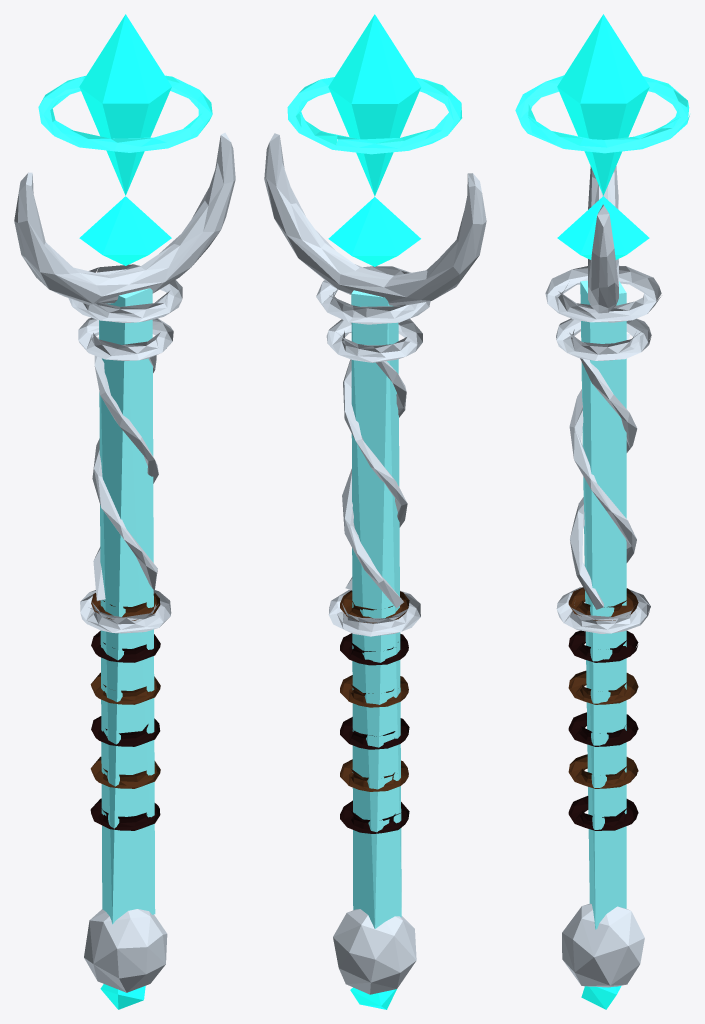
File: wand_2.glb
3 views of the same model, side by side, from view 1: azimuth 30°, elevation 25°; view 2: azimuth 150°, elevation 25°; view 3: azimuth 270°, elevation 25° (orthographic).
Parts seen in each view (by area): view 1: part_01, part_15, part_16, part_11, part_18, part_17, part_10, part_09, part_08, part_13, part_14, part_02 (+6 smaller); view 2: part_01, part_15, part_16, part_11, part_18, part_17, part_10, part_09, part_13, part_08, part_14, part_02 (+6 smaller); view 3: part_01, part_16, part_11, part_18, part_10, part_15, part_17, part_09, part_14, part_13, part_08, part_02 (+6 smaller).
Part boxes in pixels (x1=…): part_01: x1=99, y1=288, x2=155, y2=924; part_15: x1=14, y1=132, x2=235, y2=304; part_16: x1=79, y1=14, x2=171, y2=195; part_11: x1=84, y1=909, x2=167, y2=992; part_18: x1=38, y1=75, x2=212, y2=152; part_17: x1=79, y1=196, x2=171, y2=265; part_10: x1=68, y1=264, x2=182, y2=322; part_09: x1=78, y1=317, x2=173, y2=360; part_08: x1=80, y1=590, x2=171, y2=633; part_13: x1=93, y1=337, x2=158, y2=601; part_14: x1=92, y1=355, x2=157, y2=593; part_02: x1=90, y1=798, x2=160, y2=830; part_01: x1=351, y1=290, x2=401, y2=928; part_15: x1=264, y1=133, x2=486, y2=305; part_16: x1=328, y1=14, x2=421, y2=196; part_11: x1=333, y1=909, x2=416, y2=994; part_18: x1=287, y1=77, x2=462, y2=154; part_17: x1=328, y1=197, x2=420, y2=266; part_10: x1=316, y1=266, x2=430, y2=324; part_09: x1=326, y1=318, x2=422, y2=362; part_13: x1=342, y1=361, x2=406, y2=608; part_08: x1=329, y1=590, x2=420, y2=636; part_14: x1=343, y1=359, x2=407, y2=590; part_02: x1=340, y1=800, x2=409, y2=833; part_01: x1=580, y1=280, x2=626, y2=929; part_16: x1=557, y1=14, x2=649, y2=195; part_11: x1=562, y1=903, x2=644, y2=987; part_18: x1=515, y1=75, x2=689, y2=153; part_10: x1=545, y1=265, x2=661, y2=322; part_15: x1=588, y1=166, x2=618, y2=313; part_17: x1=557, y1=196, x2=649, y2=259; part_09: x1=556, y1=318, x2=651, y2=360; part_14: x1=570, y1=358, x2=637, y2=609; part_13: x1=569, y1=334, x2=636, y2=562; part_08: x1=556, y1=587, x2=650, y2=633; part_02: x1=568, y1=796, x2=638, y2=830.
Bounding box in the file's own units: 0.1629 × 0.7081 × 0.1135.
